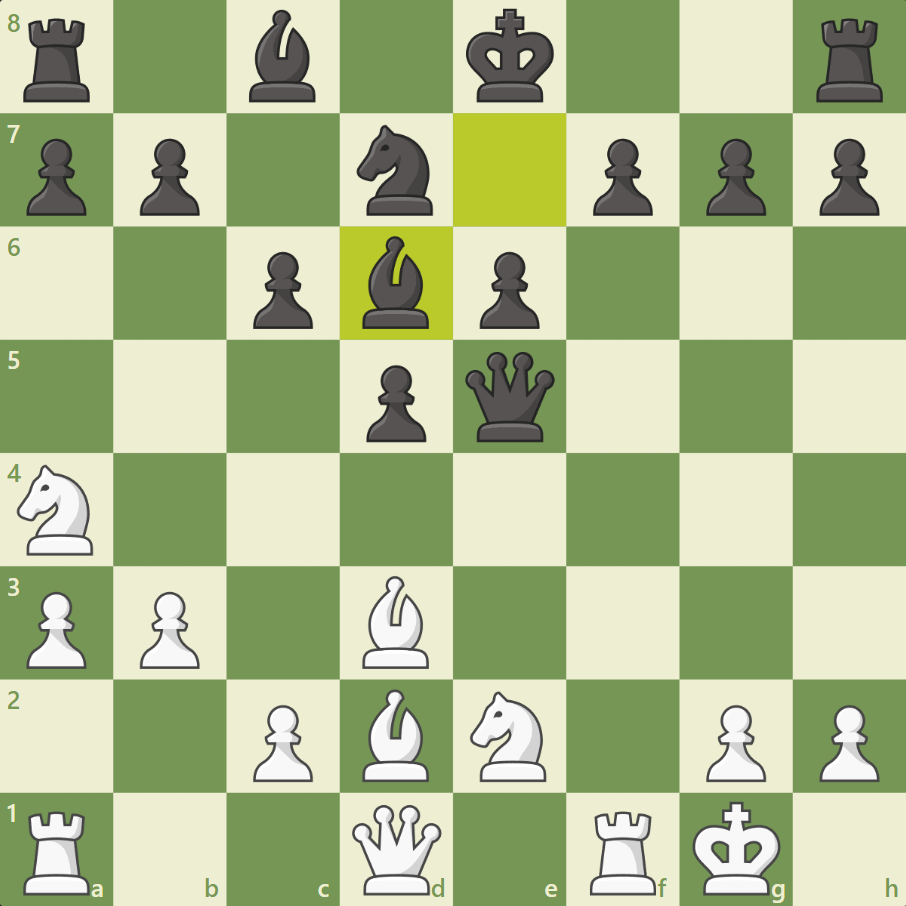B: (360, 573, 431, 672), (363, 687, 434, 785)
K: (689, 798, 783, 901)
N: (12, 463, 98, 560), (466, 689, 551, 786)
P: (18, 589, 92, 674), (131, 587, 203, 671), (702, 702, 771, 786), (248, 700, 315, 785), (818, 703, 883, 785)
Q: (349, 801, 444, 897)
R: (16, 808, 95, 898), (589, 806, 660, 898)
b: (244, 5, 319, 107), (361, 233, 433, 334)
k: (464, 6, 558, 107)
n: (354, 122, 437, 221)
p: (364, 360, 432, 447), (473, 246, 541, 333), (246, 245, 314, 332), (590, 135, 658, 222), (702, 135, 770, 222), (817, 133, 885, 220), (134, 134, 202, 221), (22, 134, 90, 221)
q: (461, 349, 560, 446)
r: (811, 16, 888, 107), (20, 12, 93, 107)
